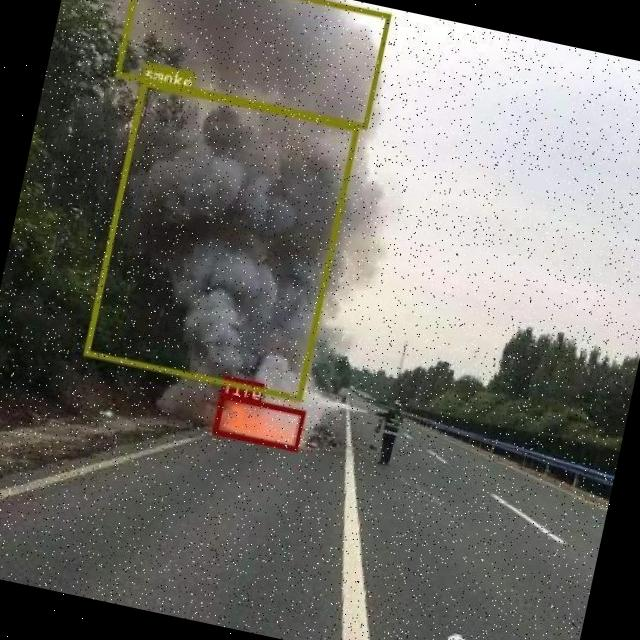smoke: (83, 80, 360, 402), (113, 0, 391, 129)
